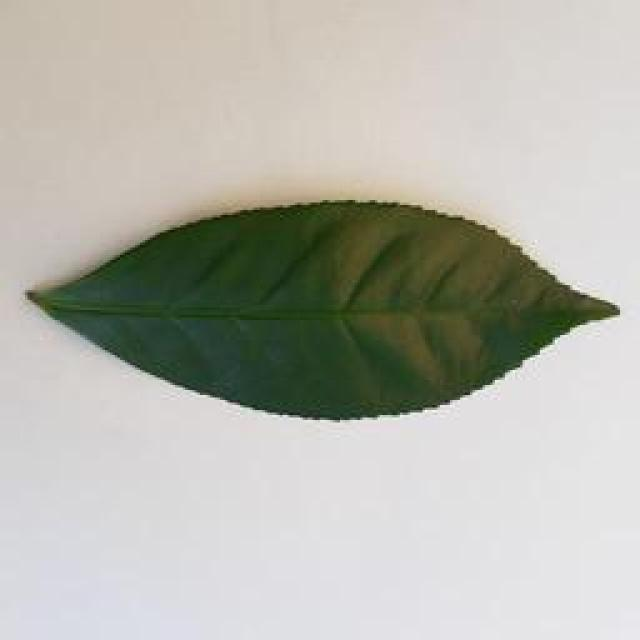Healthy: (8, 195, 626, 434)
